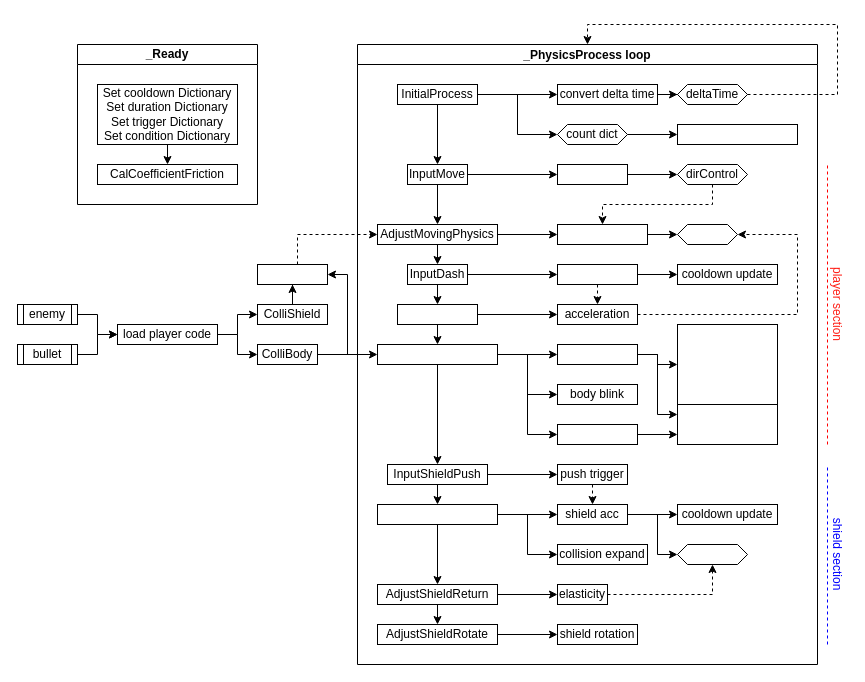
Image size: 865x682. Some labels were removed from this diagram. The shapes that lost their labels are listed below. From the top down, each one's centre as x and y in pixels, then its label:
At point (737, 134): "AdjustCountdownDic".
At point (592, 174): "WASD input".
At point (602, 234): "force to velocity".
At point (707, 234): "velMain".
At point (292, 274): "Rebound".
At point (597, 274): "dash trigger".
At point (437, 314): "ActionDash".
At point (437, 354): "ActionUnderAttack".
At point (597, 354): "hit trigger".
At point (727, 364): "condition update cooldown update duration update get damage sound effect".
At point (597, 434): "restoration".
At point (727, 424): "condition update collision update".
At point (437, 514): "ActionShieldPush".
At point (712, 554): "velShield".
